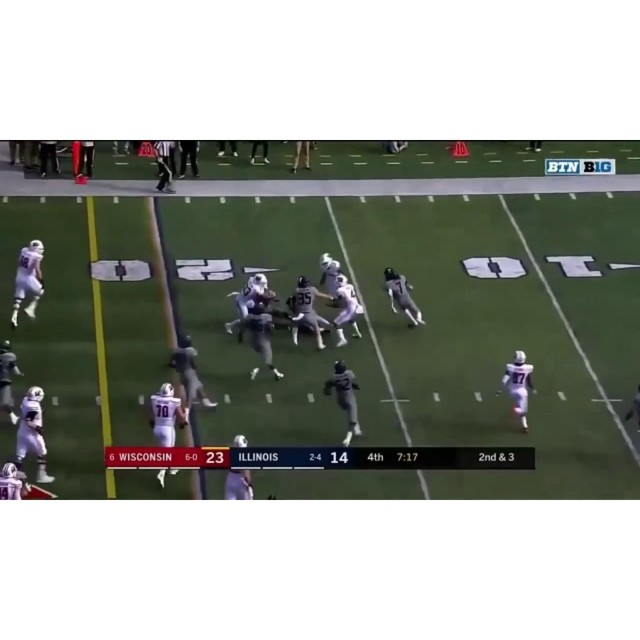american-football-player: (6, 384, 52, 486), (167, 334, 214, 415), (324, 360, 366, 446), (286, 275, 331, 351), (244, 303, 286, 382), (10, 240, 47, 329), (498, 350, 536, 434), (224, 273, 270, 339), (326, 274, 365, 346), (383, 267, 426, 329), (147, 382, 187, 447), (225, 434, 254, 499), (0, 342, 22, 425), (318, 252, 344, 301)
referee: (153, 141, 177, 194)
